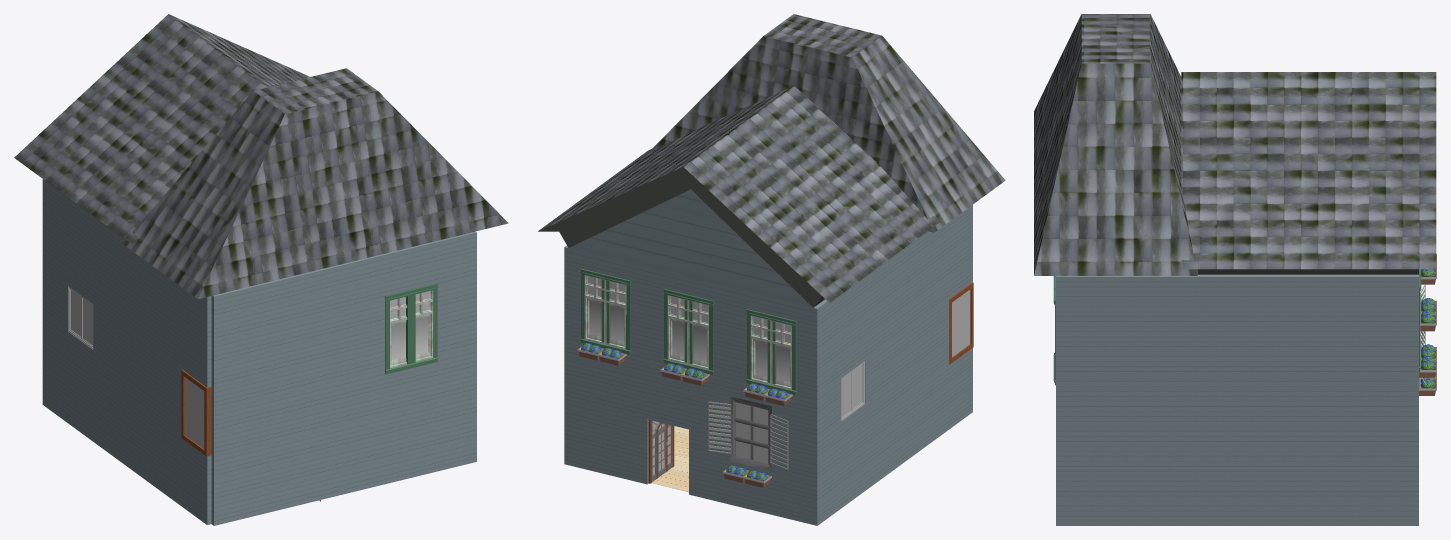
The model's file is 蔬果店.fbx.
The picture shows the model from 3 angles, left to right: view 1: azimuth 30°, elevation 25°; view 2: azimuth 150°, elevation 25°; view 3: azimuth 270°, elevation 25°; orthographic projection. The views are drawn at different scales.
Visible parts, largest first — view 1: 蔬果店屋頂, 窗戶12, 窗戶6, 窗戶12_3, 外框_012, 牆壁7_446, 牆壁7_345, 牆壁7_176, 牆壁7_312, 牆壁7_214, 牆壁7_213, 牆壁7_392 (+9 smaller); view 2: 蔬果店屋頂, 牆壁7_109_001, 窗戶21, 窗戶12_6, 窗戶12_7, 窗戶12_4, 窗戶12_5, 窗戶12_1, 窗戶12_2, 窗戶6, 門1, 蔬果一樓地板 (+1 smaller); view 3: 蔬果店屋頂, 牆壁7_430, 牆壁7_432, 牆壁7_439, 牆壁7_428, 牆壁7_429, 牆壁7_431, 牆壁7_433, 牆壁7_440, 牆壁7_438, 牆壁7_56, 牆壁7_60 (+119 smaller).
Part boxes in pixels (<box>): 蔬果店屋頂: <box>14,14,508,298</box>; 窗戶12: <box>406,283,438,368</box>; 窗戶6: <box>181,369,211,456</box>; 窗戶12_3: <box>384,289,416,374</box>; 外框_012: <box>71,289,92,345</box>; 牆壁7_446: <box>211,290,235,319</box>; 牆壁7_345: <box>211,337,235,365</box>; 牆壁7_176: <box>211,498,235,525</box>; 牆壁7_312: <box>211,360,235,388</box>; 牆壁7_214: <box>211,429,235,456</box>; 牆壁7_213: <box>211,406,235,434</box>; 牆壁7_392: <box>211,314,235,342</box>; 蔬果店屋頂: <box>538,14,1005,307</box>; 牆壁7_109_001: <box>569,189,812,307</box>; 窗戶21: <box>708,396,788,471</box>; 窗戶12_6: <box>663,288,693,368</box>; 窗戶12_7: <box>580,268,610,347</box>; 窗戶12_4: <box>746,309,776,388</box>; 窗戶12_5: <box>601,273,630,354</box>; 窗戶12_1: <box>684,294,713,374</box>; 窗戶12_2: <box>767,314,796,395</box>; 窗戶6: <box>949,282,973,364</box>; 門1: <box>648,420,674,483</box>; 蔬果一樓地板: <box>652,426,688,492</box>; 蔬果店屋頂: <box>1034,14,1436,275</box>; 牆壁7_430: <box>1309,274,1336,301</box>; 牆壁7_432: <box>1254,274,1281,301</box>; 牆壁7_439: <box>1199,274,1226,301</box>; 牆壁7_428: <box>1364,274,1391,301</box>; 牆壁7_429: <box>1336,274,1363,301</box>; 牆壁7_431: <box>1281,274,1308,301</box>; 牆壁7_433: <box>1226,274,1253,301</box>; 牆壁7_440: <box>1391,274,1418,301</box>; 牆壁7_438: <box>1171,274,1198,301</box>; 牆壁7_56: <box>1391,451,1418,476</box>; 牆壁7_60: <box>1309,451,1336,476</box>.
Size of the model in its own units: 1419 by 1691 by 1466.
